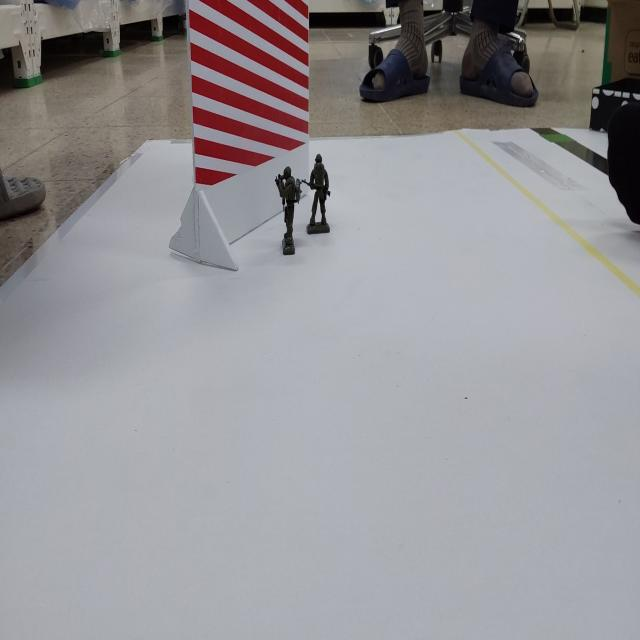enem: (301, 153, 330, 234), (276, 166, 301, 254)
